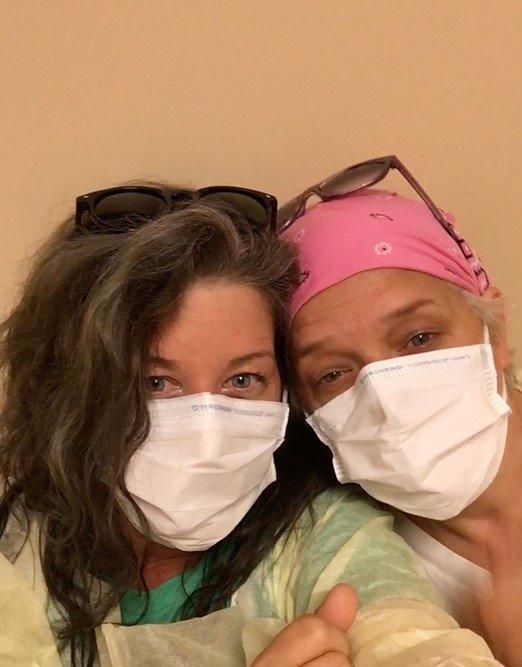face_with_mask: (68, 231, 282, 550), (286, 230, 517, 519)
